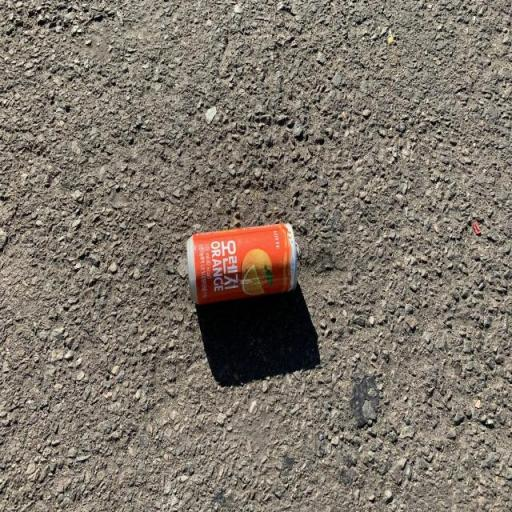metal: (172, 204, 312, 322)
